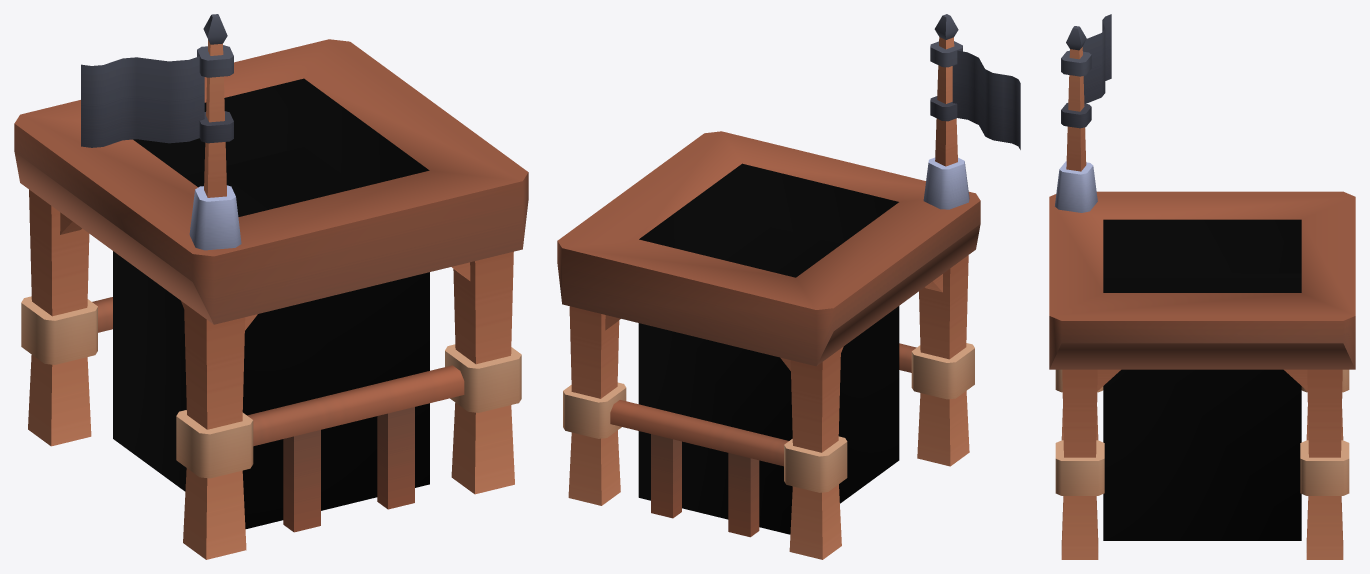
File: golf.fbx
The picture shows the model from 3 angles, left to right: view 1: azimuth 30°, elevation 25°; view 2: azimuth 150°, elevation 25°; view 3: azimuth 270°, elevation 25°; orthographic projection. The views are drawn at different scales.
Parts seen in each view (by area): view 1: structure-fence; view 2: structure-fence; view 3: structure-fence.
Part boxes in pixels (<box>): structure-fence: <box>14,14,528,559</box>; structure-fence: <box>557,14,1020,559</box>; structure-fence: <box>1049,14,1355,559</box>.
Bounding box in the file's own units: 3.1 × 3.82 × 2.5.
2 materials, 2 textured.
